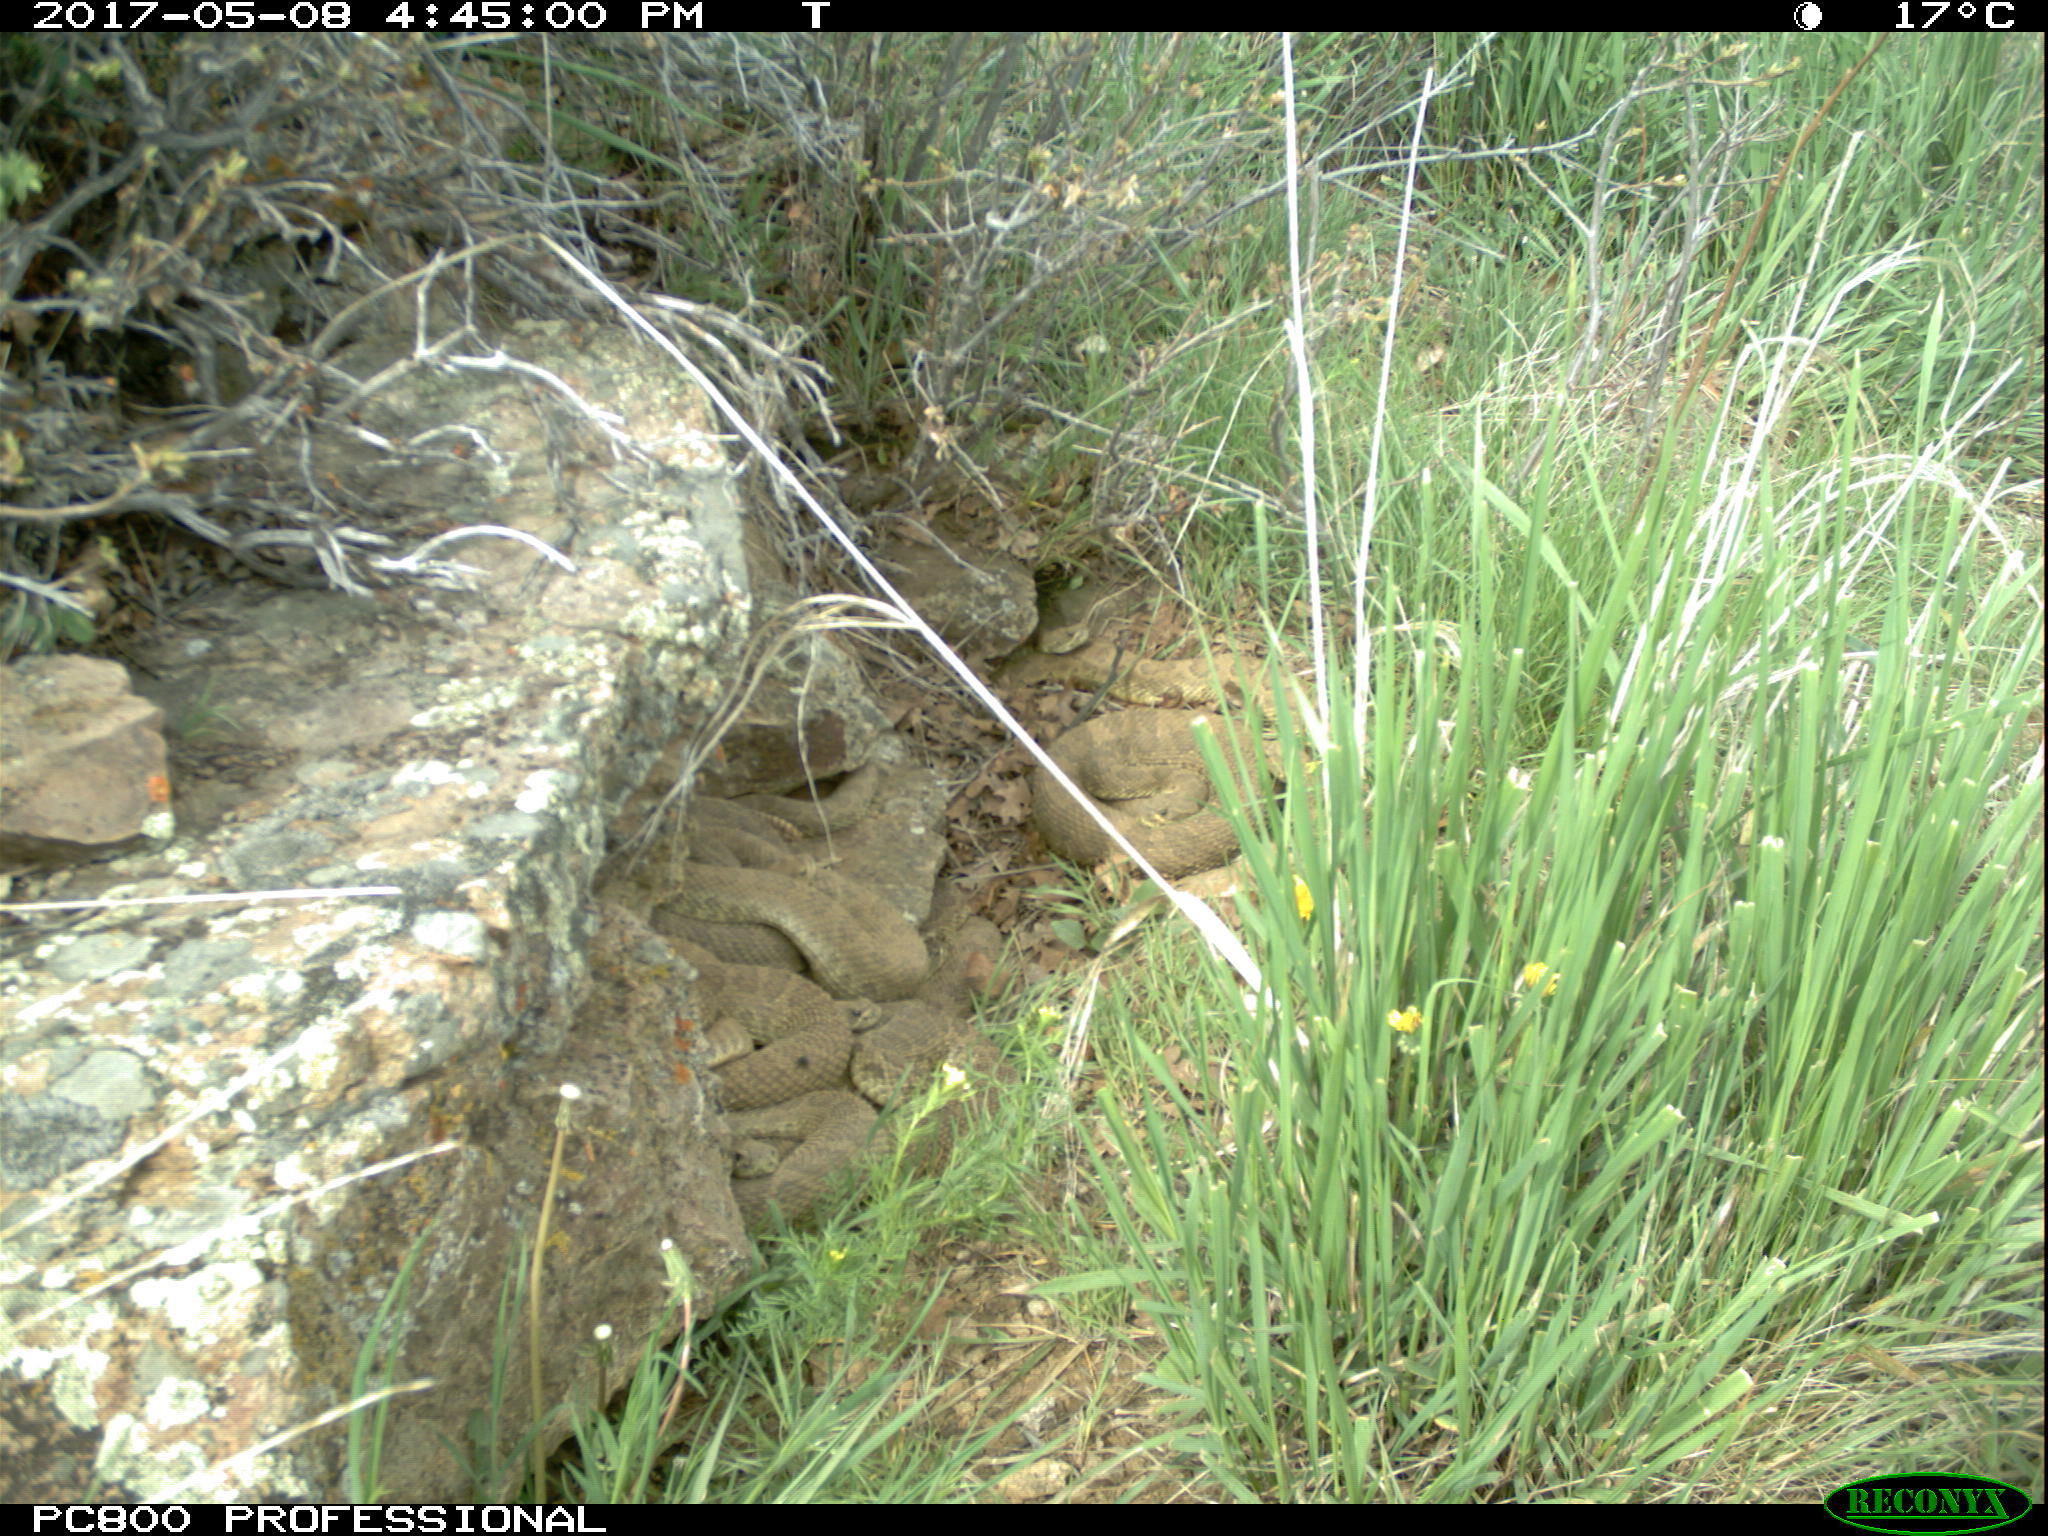snake: (685, 799, 932, 1000), (1034, 705, 1266, 876), (1005, 628, 1321, 729), (722, 1087, 892, 1247), (698, 965, 856, 1100), (856, 1005, 1018, 1123)
